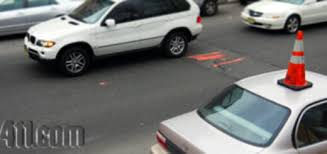car: (150, 69, 327, 154), (25, 1, 205, 75), (1, 1, 84, 36), (241, 1, 327, 33)
cone: (276, 28, 320, 92)
